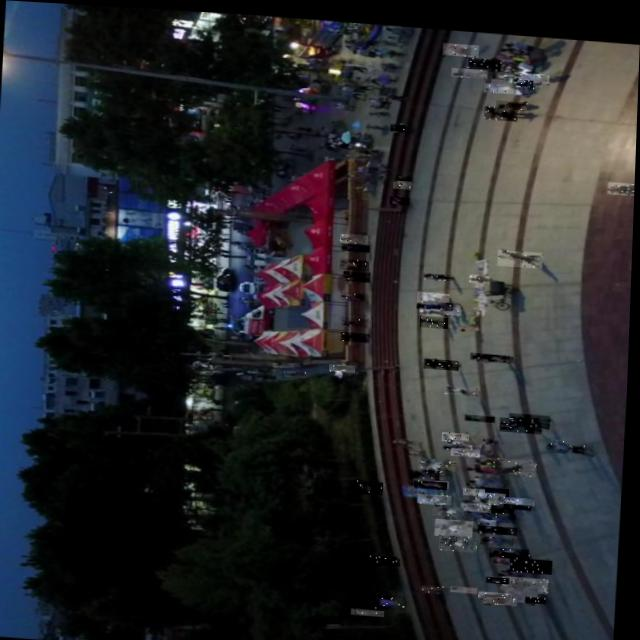Person: (499, 242, 544, 261), (496, 450, 540, 469), (506, 568, 552, 586), (438, 511, 477, 531), (549, 431, 597, 447), (502, 409, 545, 426), (514, 549, 556, 566), (442, 528, 481, 546), (503, 578, 542, 595), (512, 405, 553, 421), (378, 587, 411, 604), (493, 539, 533, 553), (484, 98, 518, 114), (442, 36, 479, 50), (496, 543, 533, 557), (468, 50, 501, 65), (421, 451, 459, 464), (510, 64, 550, 76), (426, 351, 461, 364), (419, 284, 451, 298), (421, 486, 455, 499), (478, 479, 512, 492), (481, 517, 521, 528), (357, 474, 386, 489), (452, 60, 488, 72), (341, 252, 371, 266), (448, 377, 482, 389), (487, 586, 521, 598), (464, 495, 495, 508), (608, 173, 636, 187), (487, 504, 519, 516), (500, 488, 538, 498), (467, 503, 496, 516), (496, 92, 527, 104), (436, 498, 467, 510), (472, 345, 509, 355), (481, 497, 518, 507), (430, 293, 463, 304), (484, 528, 517, 539), (484, 75, 514, 87), (462, 441, 498, 451), (413, 462, 443, 474), (421, 576, 451, 588), (482, 583, 516, 593), (422, 309, 450, 321), (344, 265, 372, 277), (417, 473, 450, 483), (343, 326, 372, 337), (454, 440, 483, 451), (466, 487, 492, 499), (424, 294, 455, 304), (344, 311, 372, 322), (446, 436, 476, 446), (484, 347, 516, 356), (342, 228, 370, 238), (444, 425, 472, 435), (355, 602, 388, 610), (375, 551, 404, 560), (423, 472, 452, 481), (483, 490, 512, 499), (343, 286, 369, 296), (373, 549, 401, 558), (331, 358, 358, 367), (425, 266, 455, 274), (468, 407, 498, 415), (343, 238, 371, 246), (466, 480, 488, 490), (422, 301, 448, 309), (512, 72, 535, 81), (425, 460, 448, 469), (486, 485, 509, 494), (510, 77, 530, 87), (507, 496, 535, 503), (390, 190, 411, 199), (455, 579, 482, 586), (471, 267, 491, 276), (490, 569, 513, 576), (286, 366, 309, 373), (493, 65, 515, 72), (394, 175, 412, 183), (418, 297, 442, 303), (495, 549, 513, 557), (448, 432, 476, 437), (529, 588, 549, 595), (444, 40, 461, 48), (481, 511, 500, 518), (391, 118, 406, 126), (504, 70, 519, 78), (444, 302, 463, 308), (486, 430, 500, 437), (397, 170, 413, 176), (506, 64, 521, 69), (481, 514, 493, 519), (477, 350, 491, 354)
